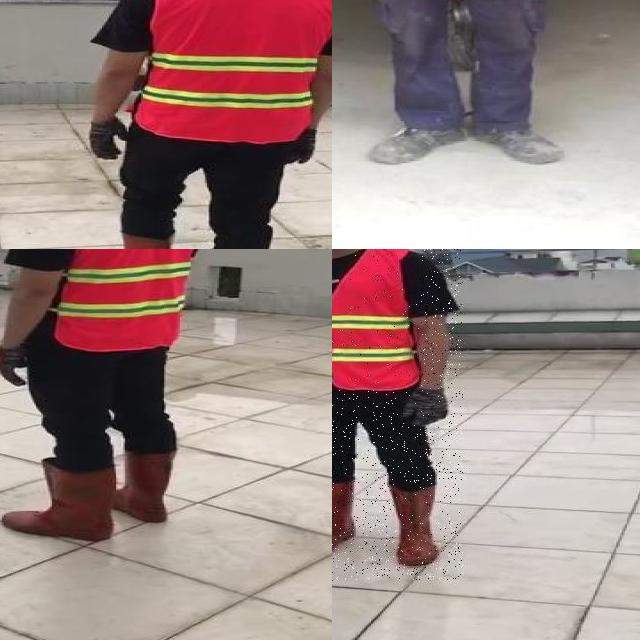boots: (6, 459, 118, 541), (107, 451, 175, 522), (390, 486, 442, 568), (332, 480, 358, 559)
hand_glove: (88, 119, 134, 160), (0, 344, 29, 387), (287, 127, 319, 163)
person: (0, 249, 228, 544), (81, 0, 332, 249), (332, 0, 592, 168), (332, 249, 463, 581)
shoes: (367, 114, 468, 164), (470, 113, 568, 164)
vest: (141, 0, 332, 143), (36, 249, 206, 350), (332, 249, 421, 390)
